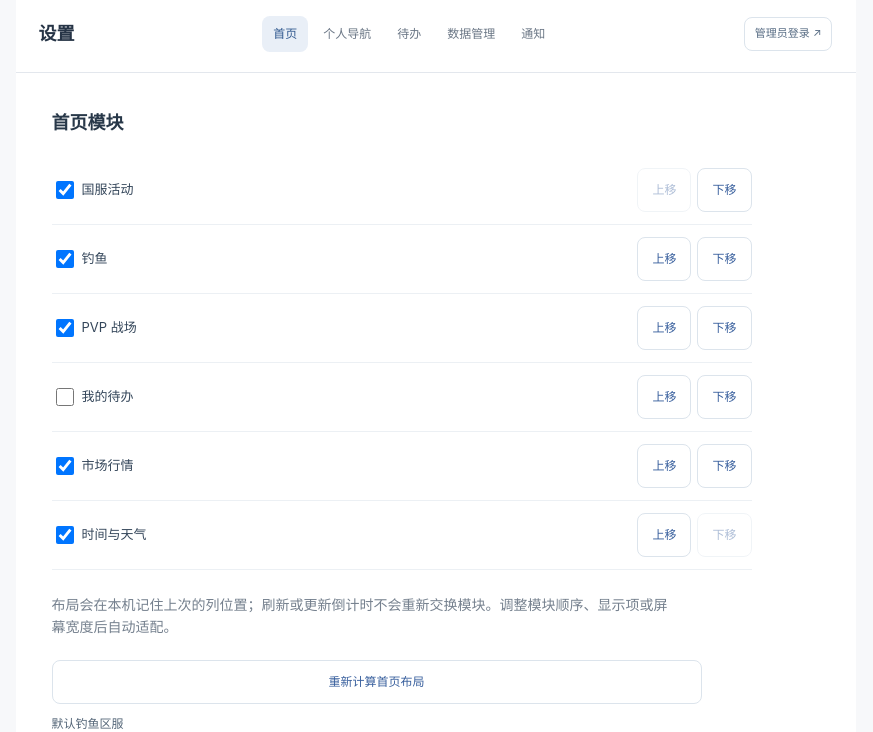
Test: uses one data category and preserves all three data management workflows
Expected: the button "云端同步" is not shown
Expected: the button "备份与恢复" is not shown
Click the button "数据管理" at x=471, y=34, box [436, 16, 506, 52]
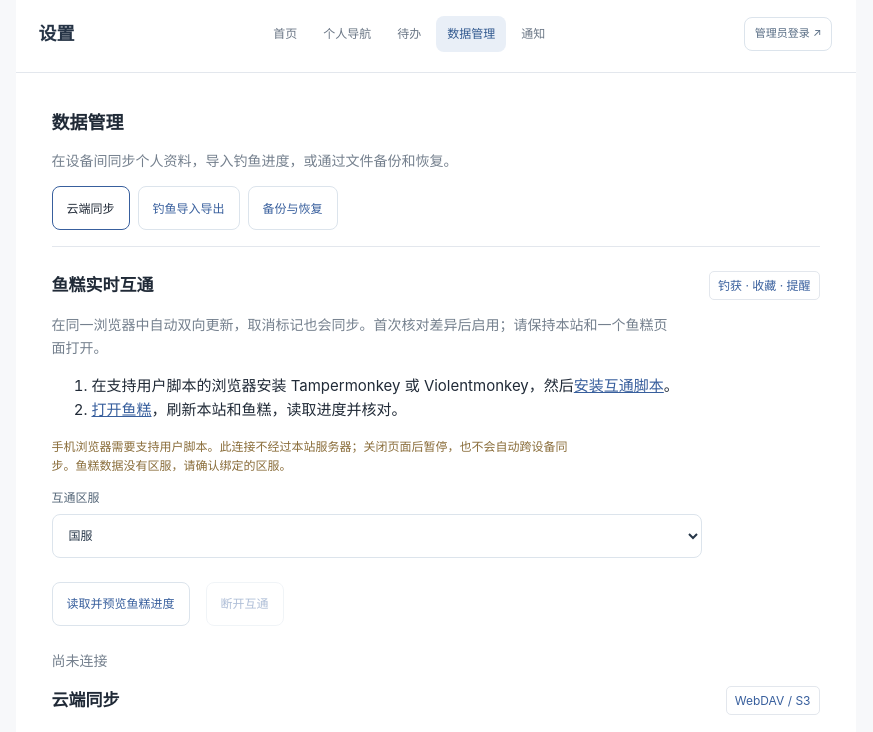
Click the button "钓鱼导入导出" at x=188, y=208, box [138, 186, 240, 230]
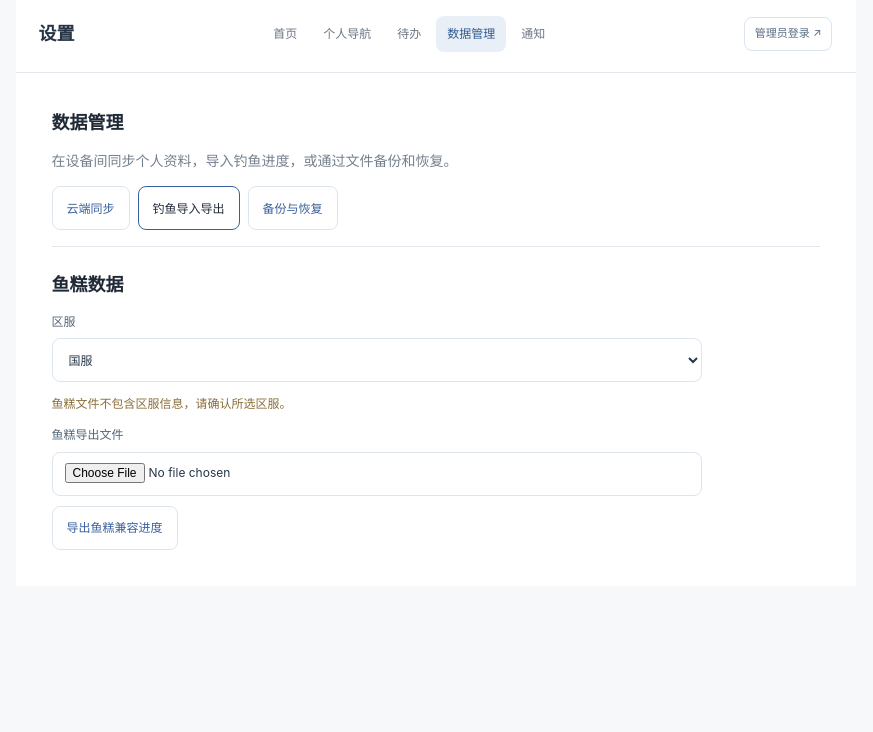
Expected: the file field labelled "鱼糕导出文件" is shown, [52, 452, 702, 496]
Click the button "备份与恢复" at x=292, y=208, box [248, 186, 338, 230]
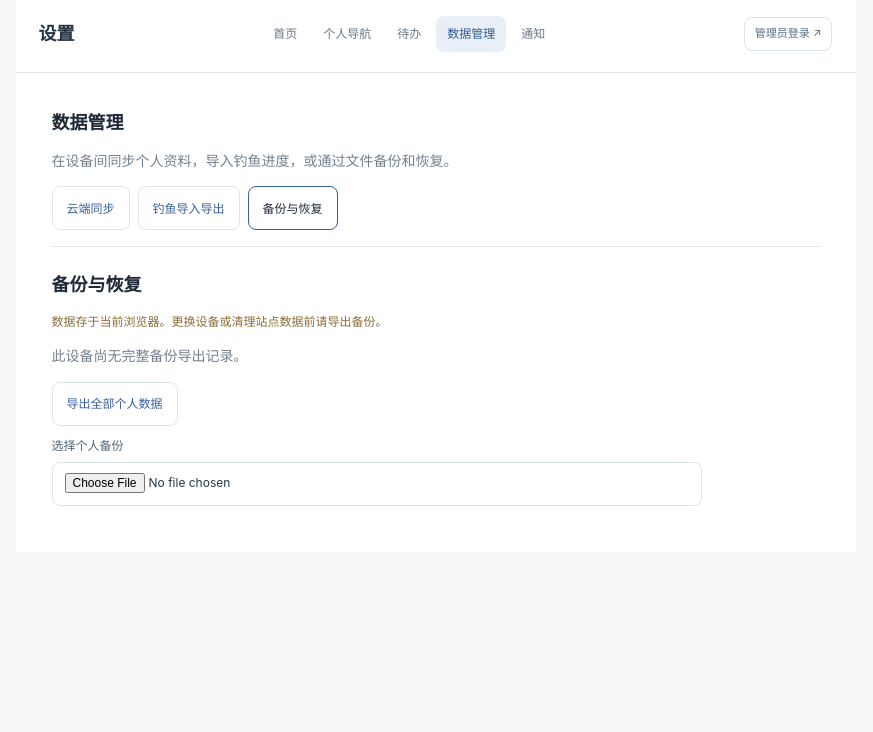
Expected: the file field named "个人备份文件" is shown, [52, 462, 702, 506]
